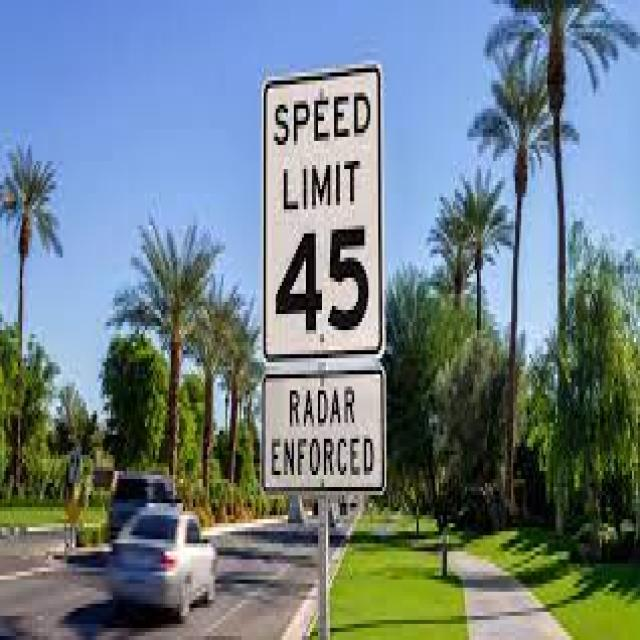Speed Limit Signs: (256, 66, 388, 366)
